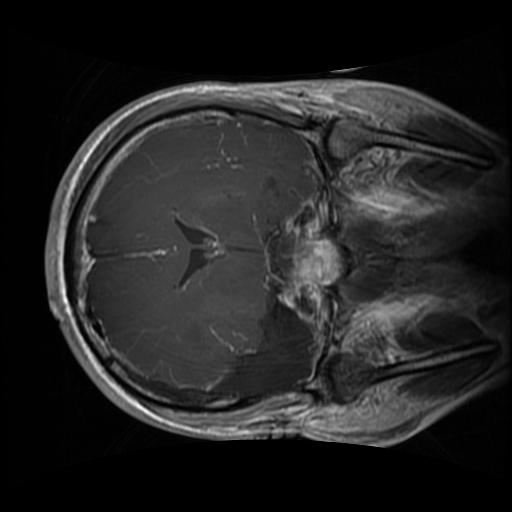glioma: (139, 295, 316, 407)
